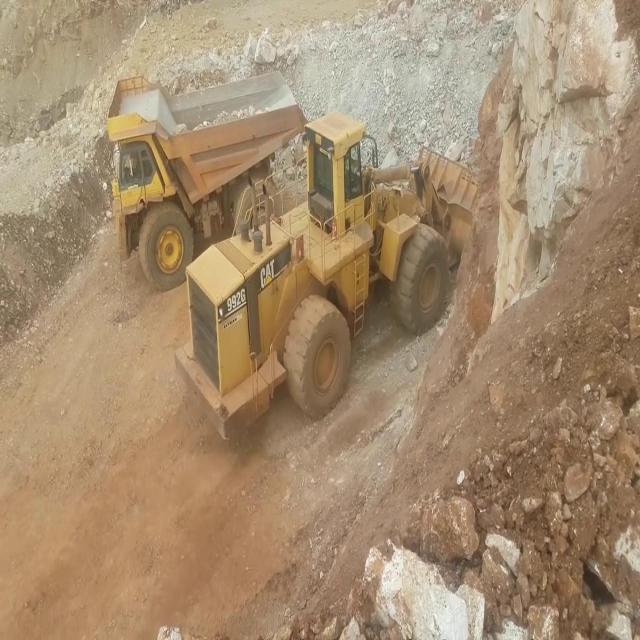Dump Truck: (104, 58, 302, 305)
Loader: (176, 115, 482, 446)
